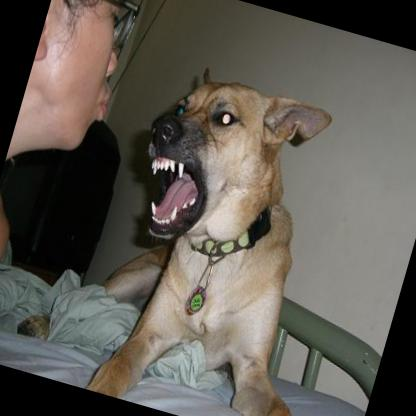malinois: (6, 35, 387, 416)
